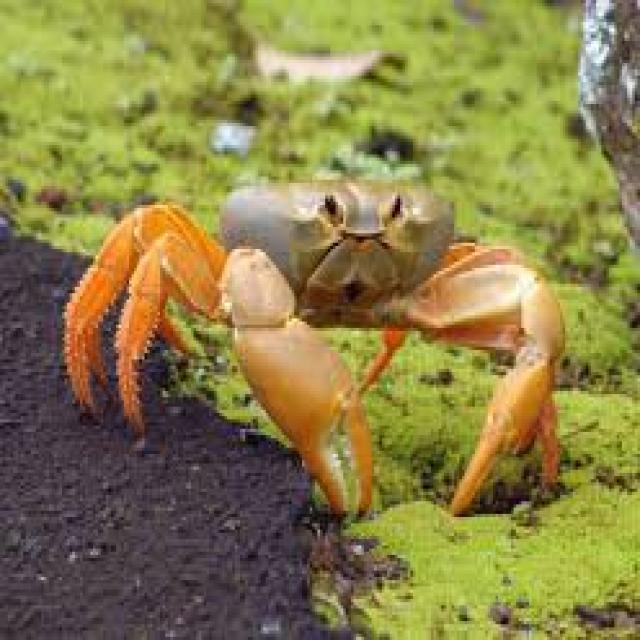crab: (117, 184, 529, 415)
